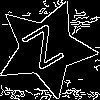Z: (21, 24, 72, 79)
